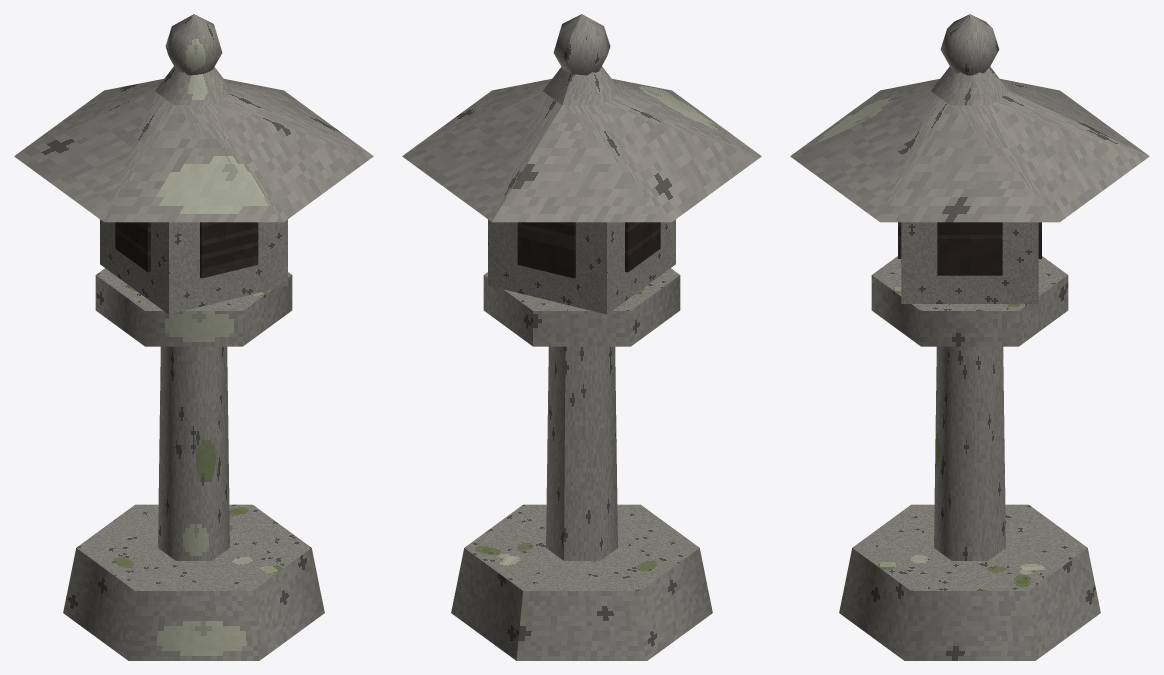
File: prop_lantern.glb
3 views of the same model, side by side, from view 1: azimuth 30°, elevation 25°; view 2: azimuth 150°, elevation 25°; view 3: azimuth 270°, elevation 25° (orthographic).
Parts seen in each view (by area): view 1: prop_lantern; view 2: prop_lantern; view 3: prop_lantern.
Part boxes in pixels (left/top/right/bottom): prop_lantern: left=14, top=14, right=373, bottom=660; prop_lantern: left=402, top=14, right=761, bottom=660; prop_lantern: left=790, top=14, right=1149, bottom=660.
Size of the model in its own units: 0.9526 by 2.02 by 1.1.
2 materials, 2 textured.
